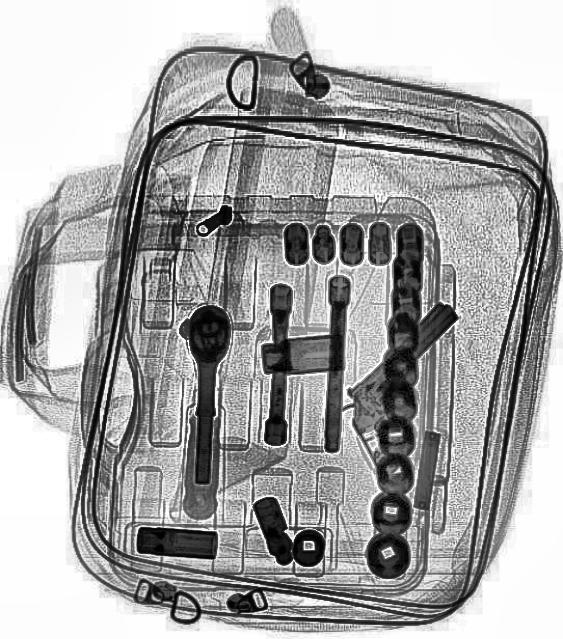Gun: (327, 297, 510, 486)
